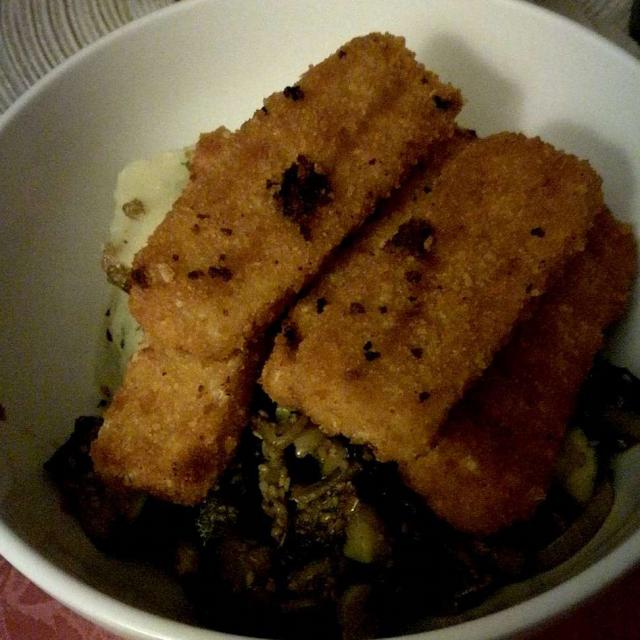mashed-potatoes-prepared-with-full-fat-milk-with-butter: (98, 142, 186, 390)
